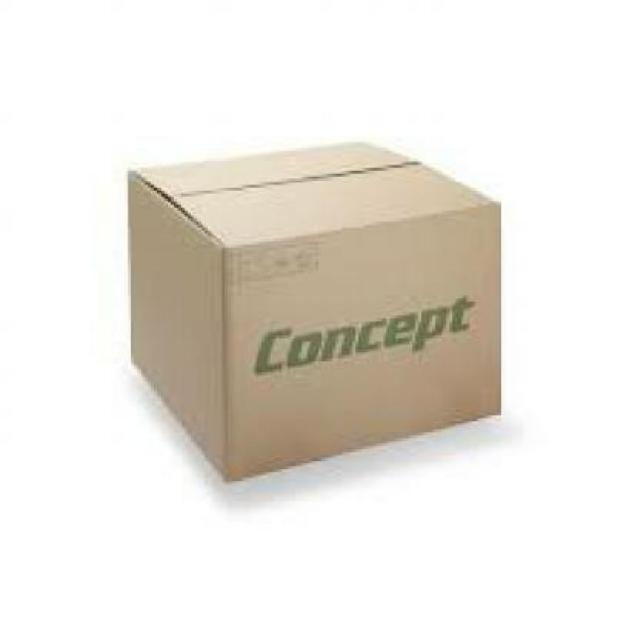box: (113, 148, 532, 490)
